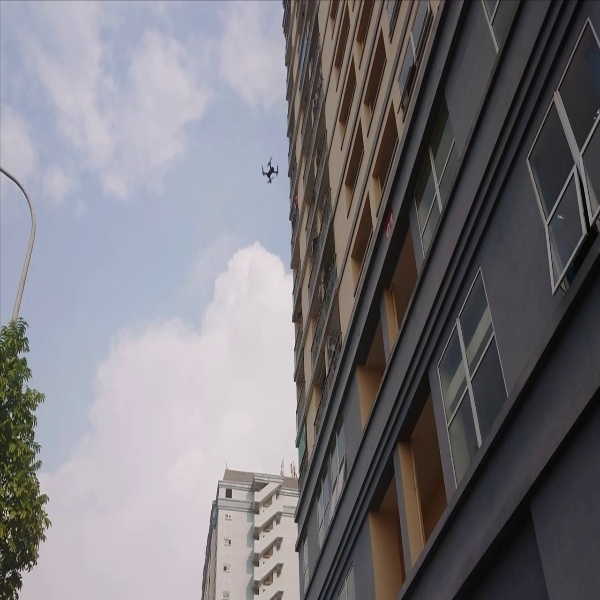drone: (255, 152, 283, 188)
